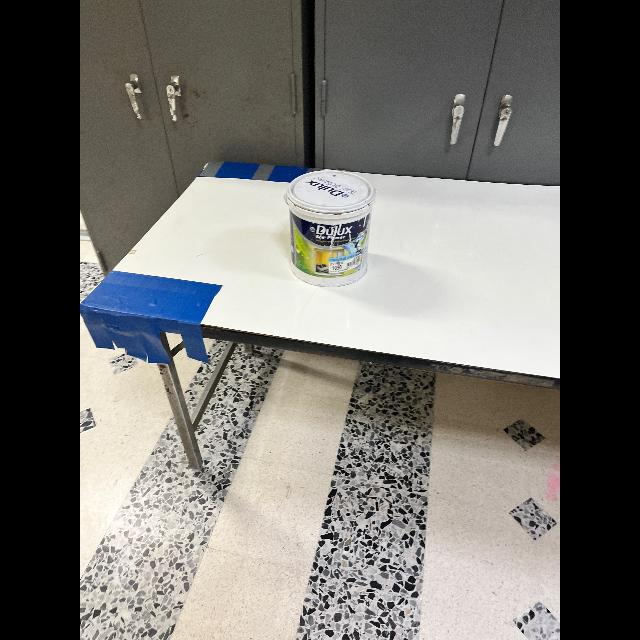paint_bucket: (284, 165, 382, 282)
